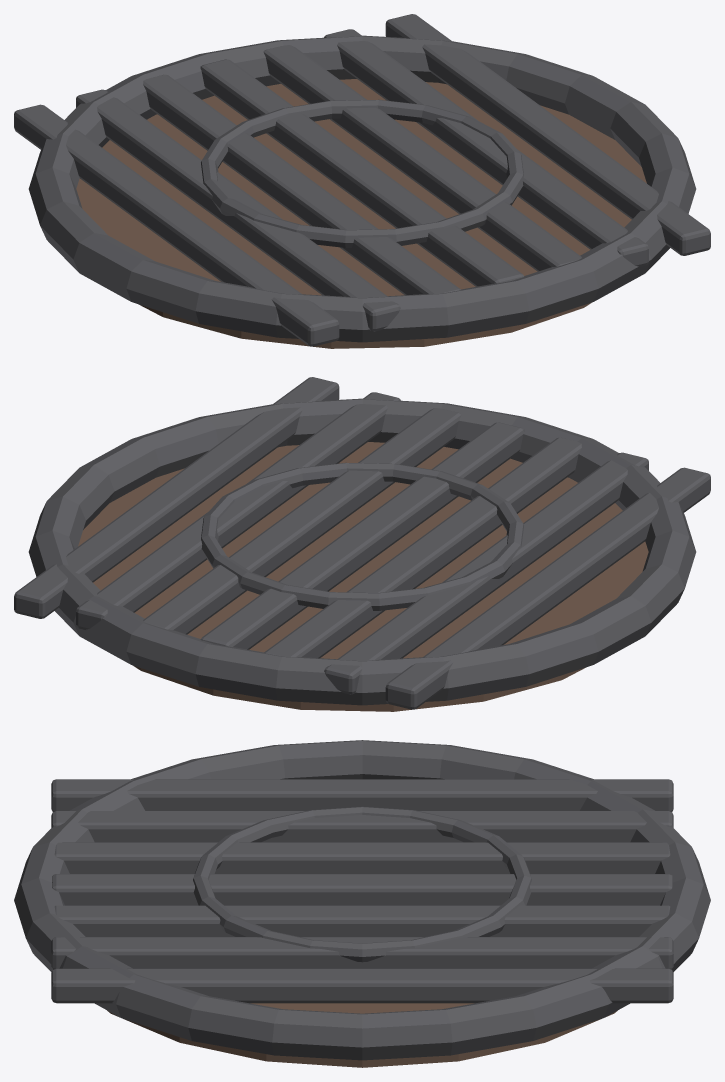
3 renders of one model, top to bottom at view 1: azimuth 30°, elevation 25°; view 2: azimuth 150°, elevation 25°; view 3: azimuth 270°, elevation 25°, orthographic. The views are drawn at different scales.
Parts seen in each view (by area): view 1: grateDrain; view 2: grateDrain; view 3: grateDrain.
Boxes of the visible parts, x1,y1,x2,y2 form: grateDrain: (14,14,710,348); grateDrain: (14,377,710,711); grateDrain: (14,740,710,1067).
Bounding box in the file's own units: 0.56 × 0.054 × 0.56.
